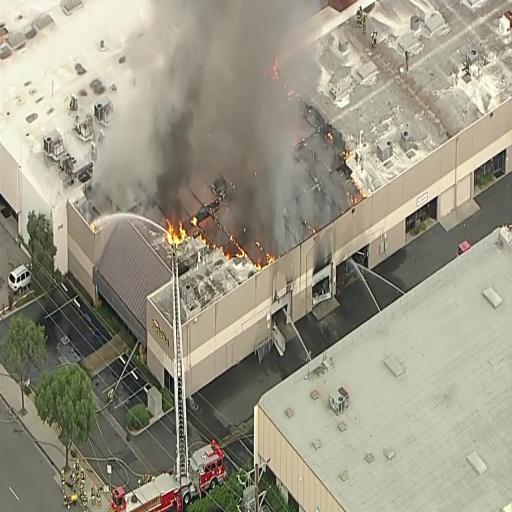smoke: (160, 2, 287, 146)
